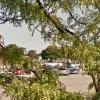Tree: (9, 45, 64, 100)
